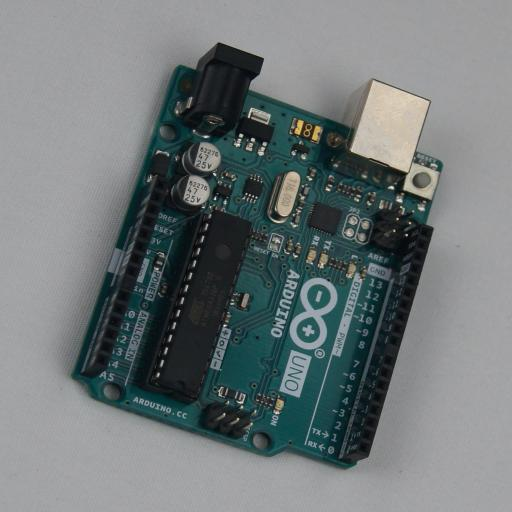Arduino Uno -Green-: (70, 42, 443, 470)
